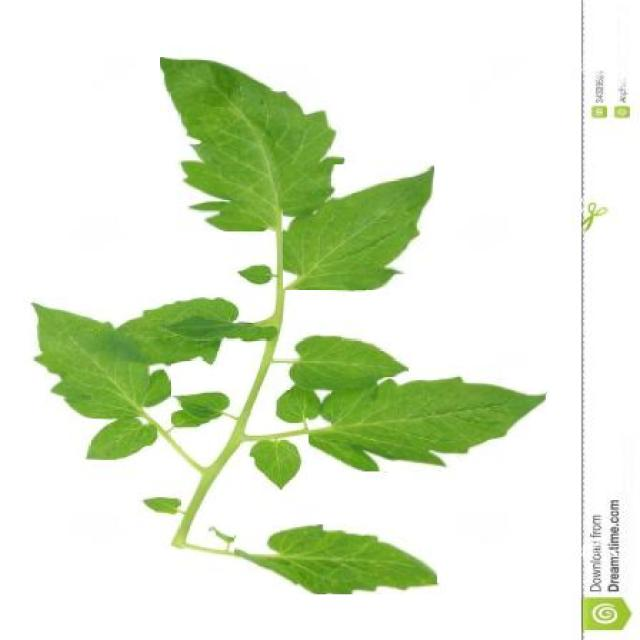Healthy: (160, 57, 344, 232), (309, 377, 546, 472), (283, 164, 434, 290), (31, 300, 170, 419), (235, 524, 438, 594), (287, 334, 409, 390)
